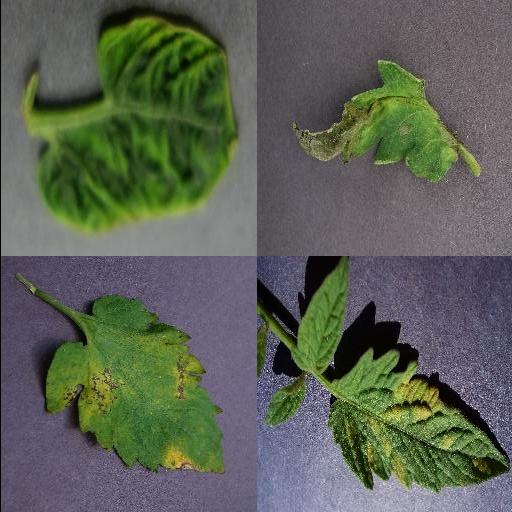Healthy: (294, 256, 350, 374)
Late Blight: (289, 60, 461, 182)
Leaf Mold: (331, 348, 509, 492)
Septoria: (44, 297, 226, 473)
Yellow Leaf Curl Virus: (36, 15, 240, 233)
